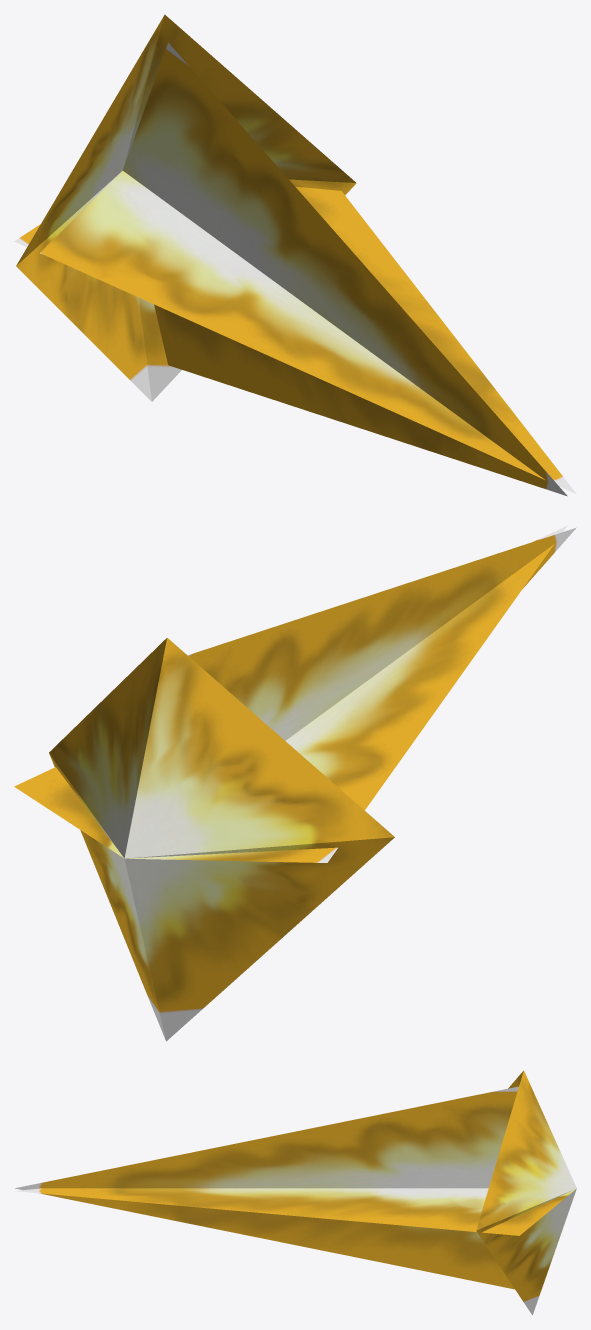
The model's file is Muzzle_Flash.fbx.
3 renders of one model, top to bottom at view 1: azimuth 30°, elevation 25°; view 2: azimuth 150°, elevation 25°; view 3: azimuth 270°, elevation 25°, orthographic. The views are drawn at different scales.
Visible parts, largest first — view 1: pPlane2; view 2: pPlane2; view 3: pPlane2.
Boxes of the visible parts, x1,y1,x2,y2 form: pPlane2: (14, 14, 576, 496); pPlane2: (14, 525, 576, 1041); pPlane2: (14, 1070, 576, 1315).
Bounding box in the file's own units: 1.05 × 1.15 × 2.37.
1 material, 1 textured.
